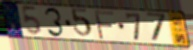3: (42, 6, 65, 39)
5: (69, 7, 94, 40), (20, 5, 44, 38)
7: (145, 12, 168, 45), (124, 11, 143, 42)
F: (93, 9, 116, 41)
